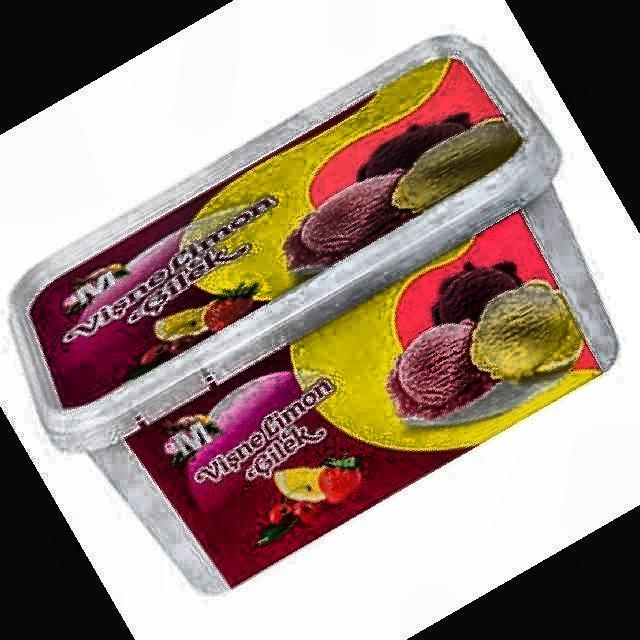plastic: (12, 38, 616, 592)
